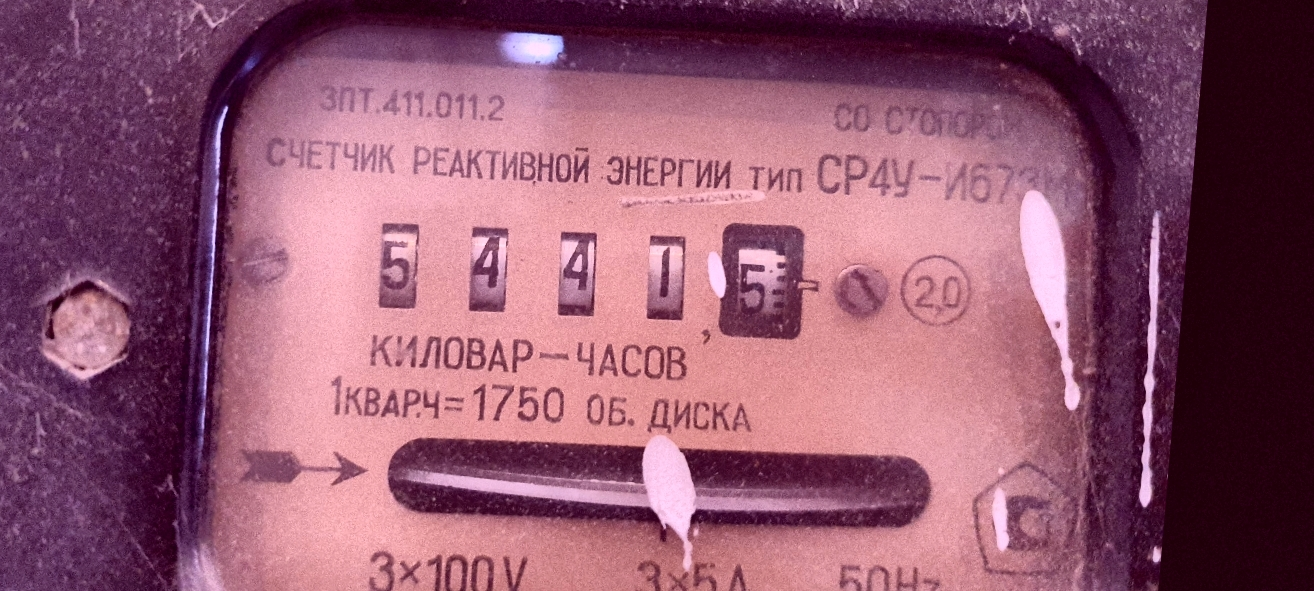1: (649, 242, 677, 302)
4: (554, 230, 596, 299), (466, 229, 506, 293)
5: (731, 255, 771, 321), (373, 235, 416, 294)
screen: (348, 167, 833, 371)
